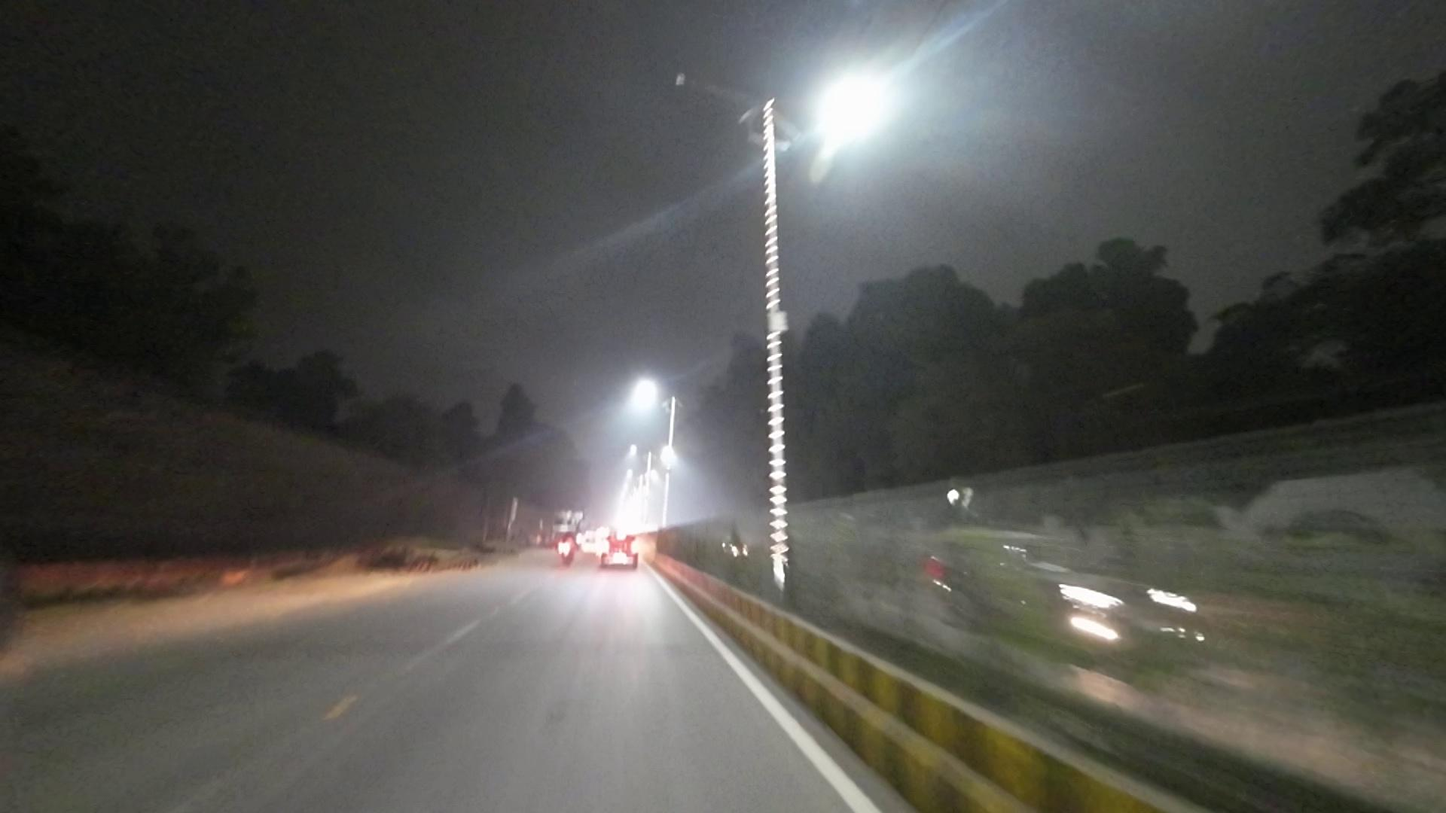streetlight: (667, 69, 739, 104)
